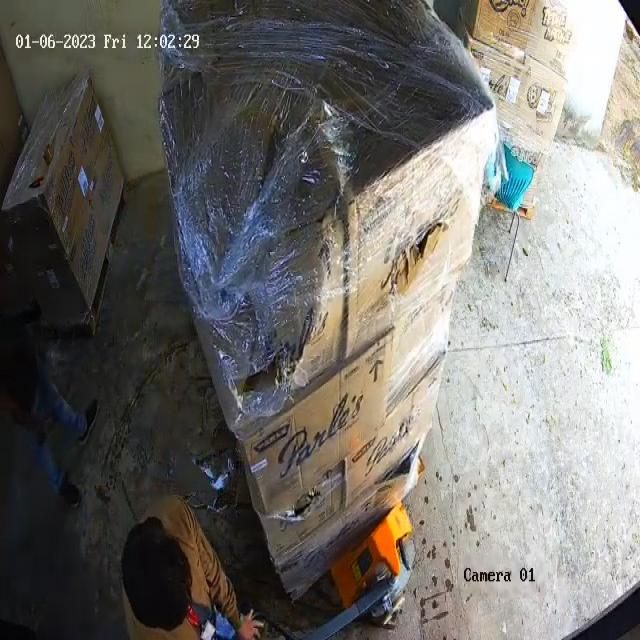leakage: (265, 451, 339, 553), (210, 333, 277, 402), (389, 224, 442, 302)
squeeze: (173, 88, 330, 298)
